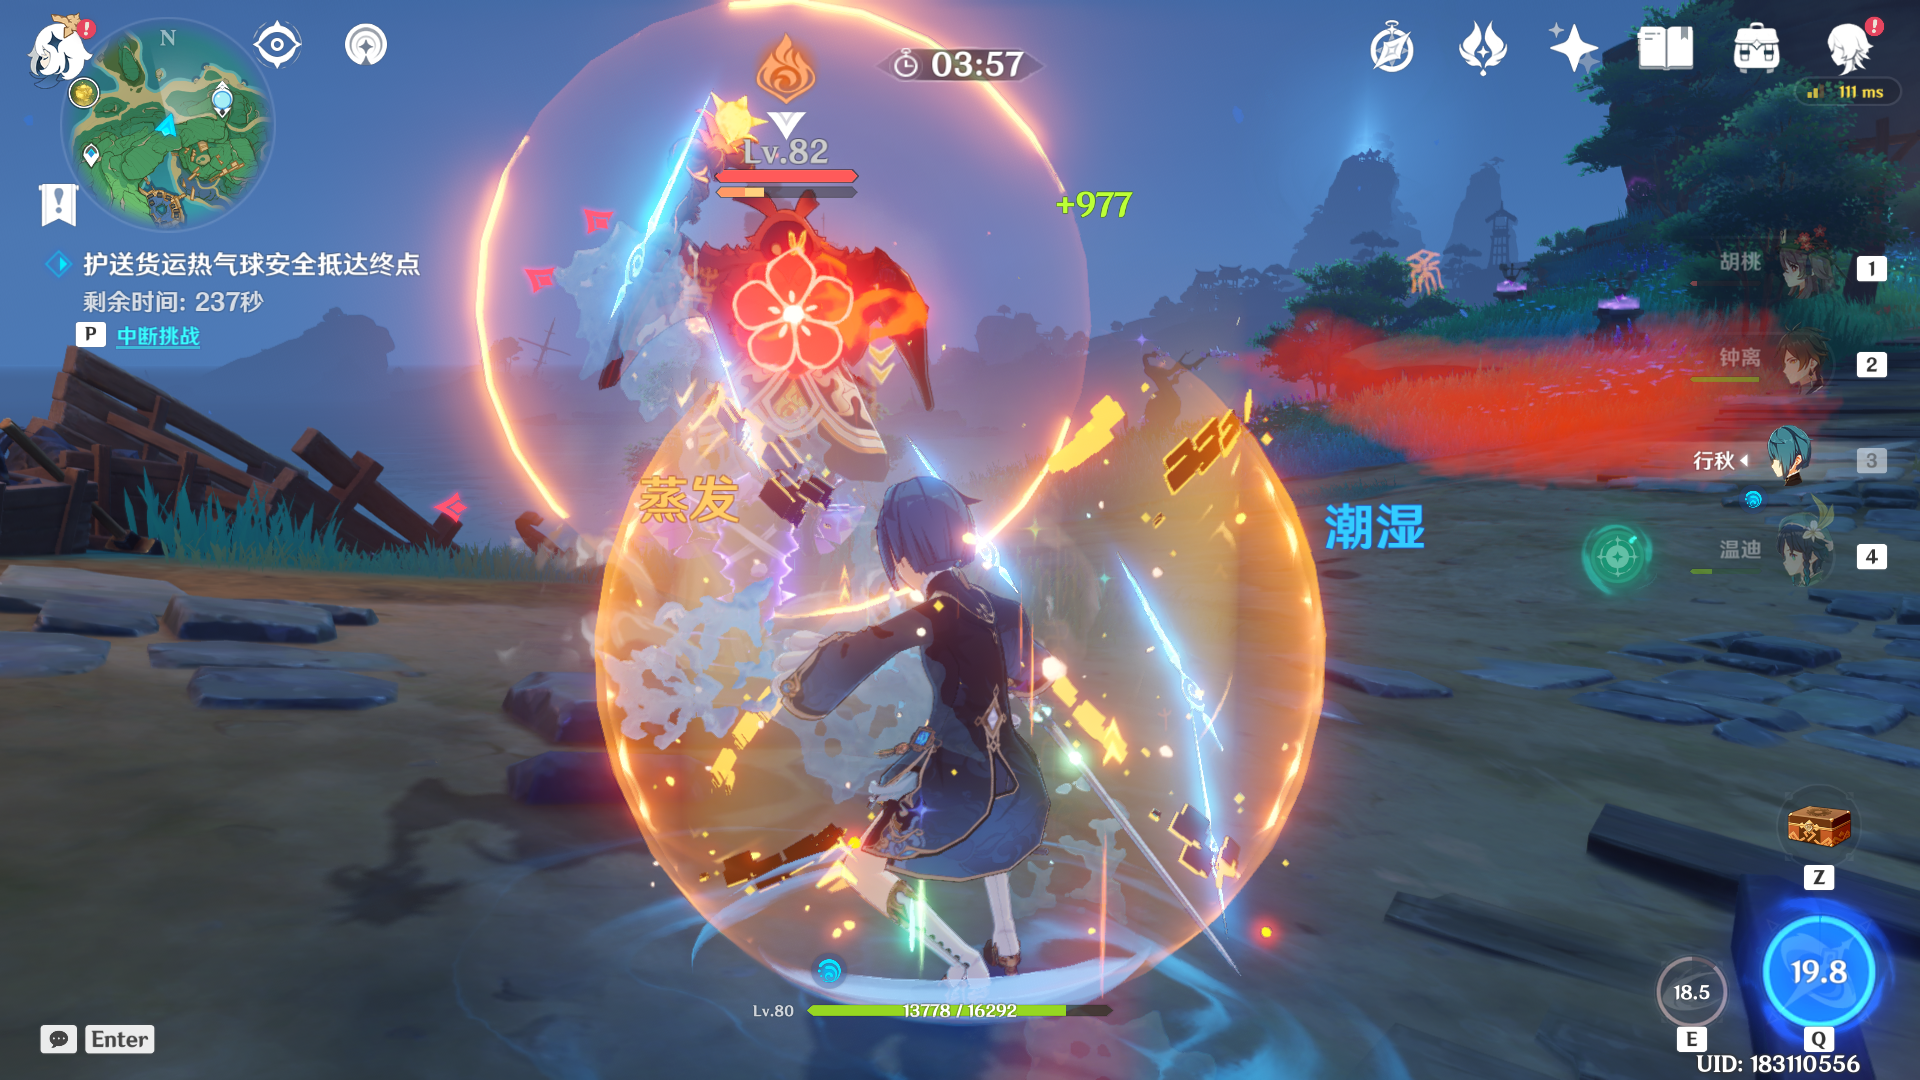caster: (626, 145, 963, 559)
character: (716, 419, 1138, 1007)
